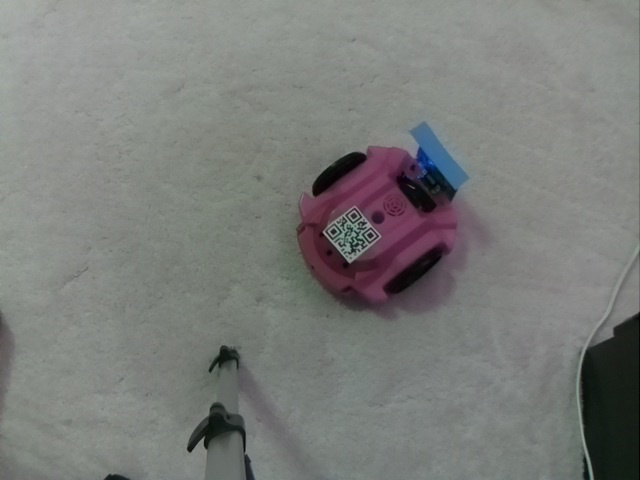chassis: (289, 135, 460, 306)
qr: (315, 204, 389, 261)
